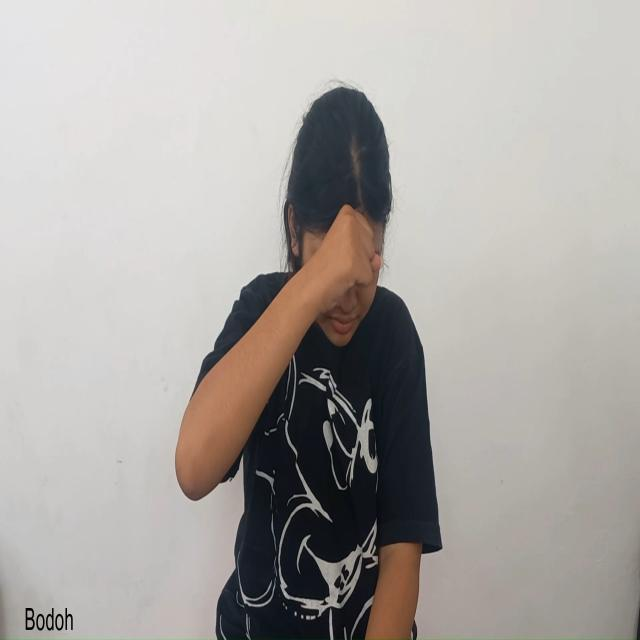Bodoh -BISINDO-: (203, 80, 395, 354)
